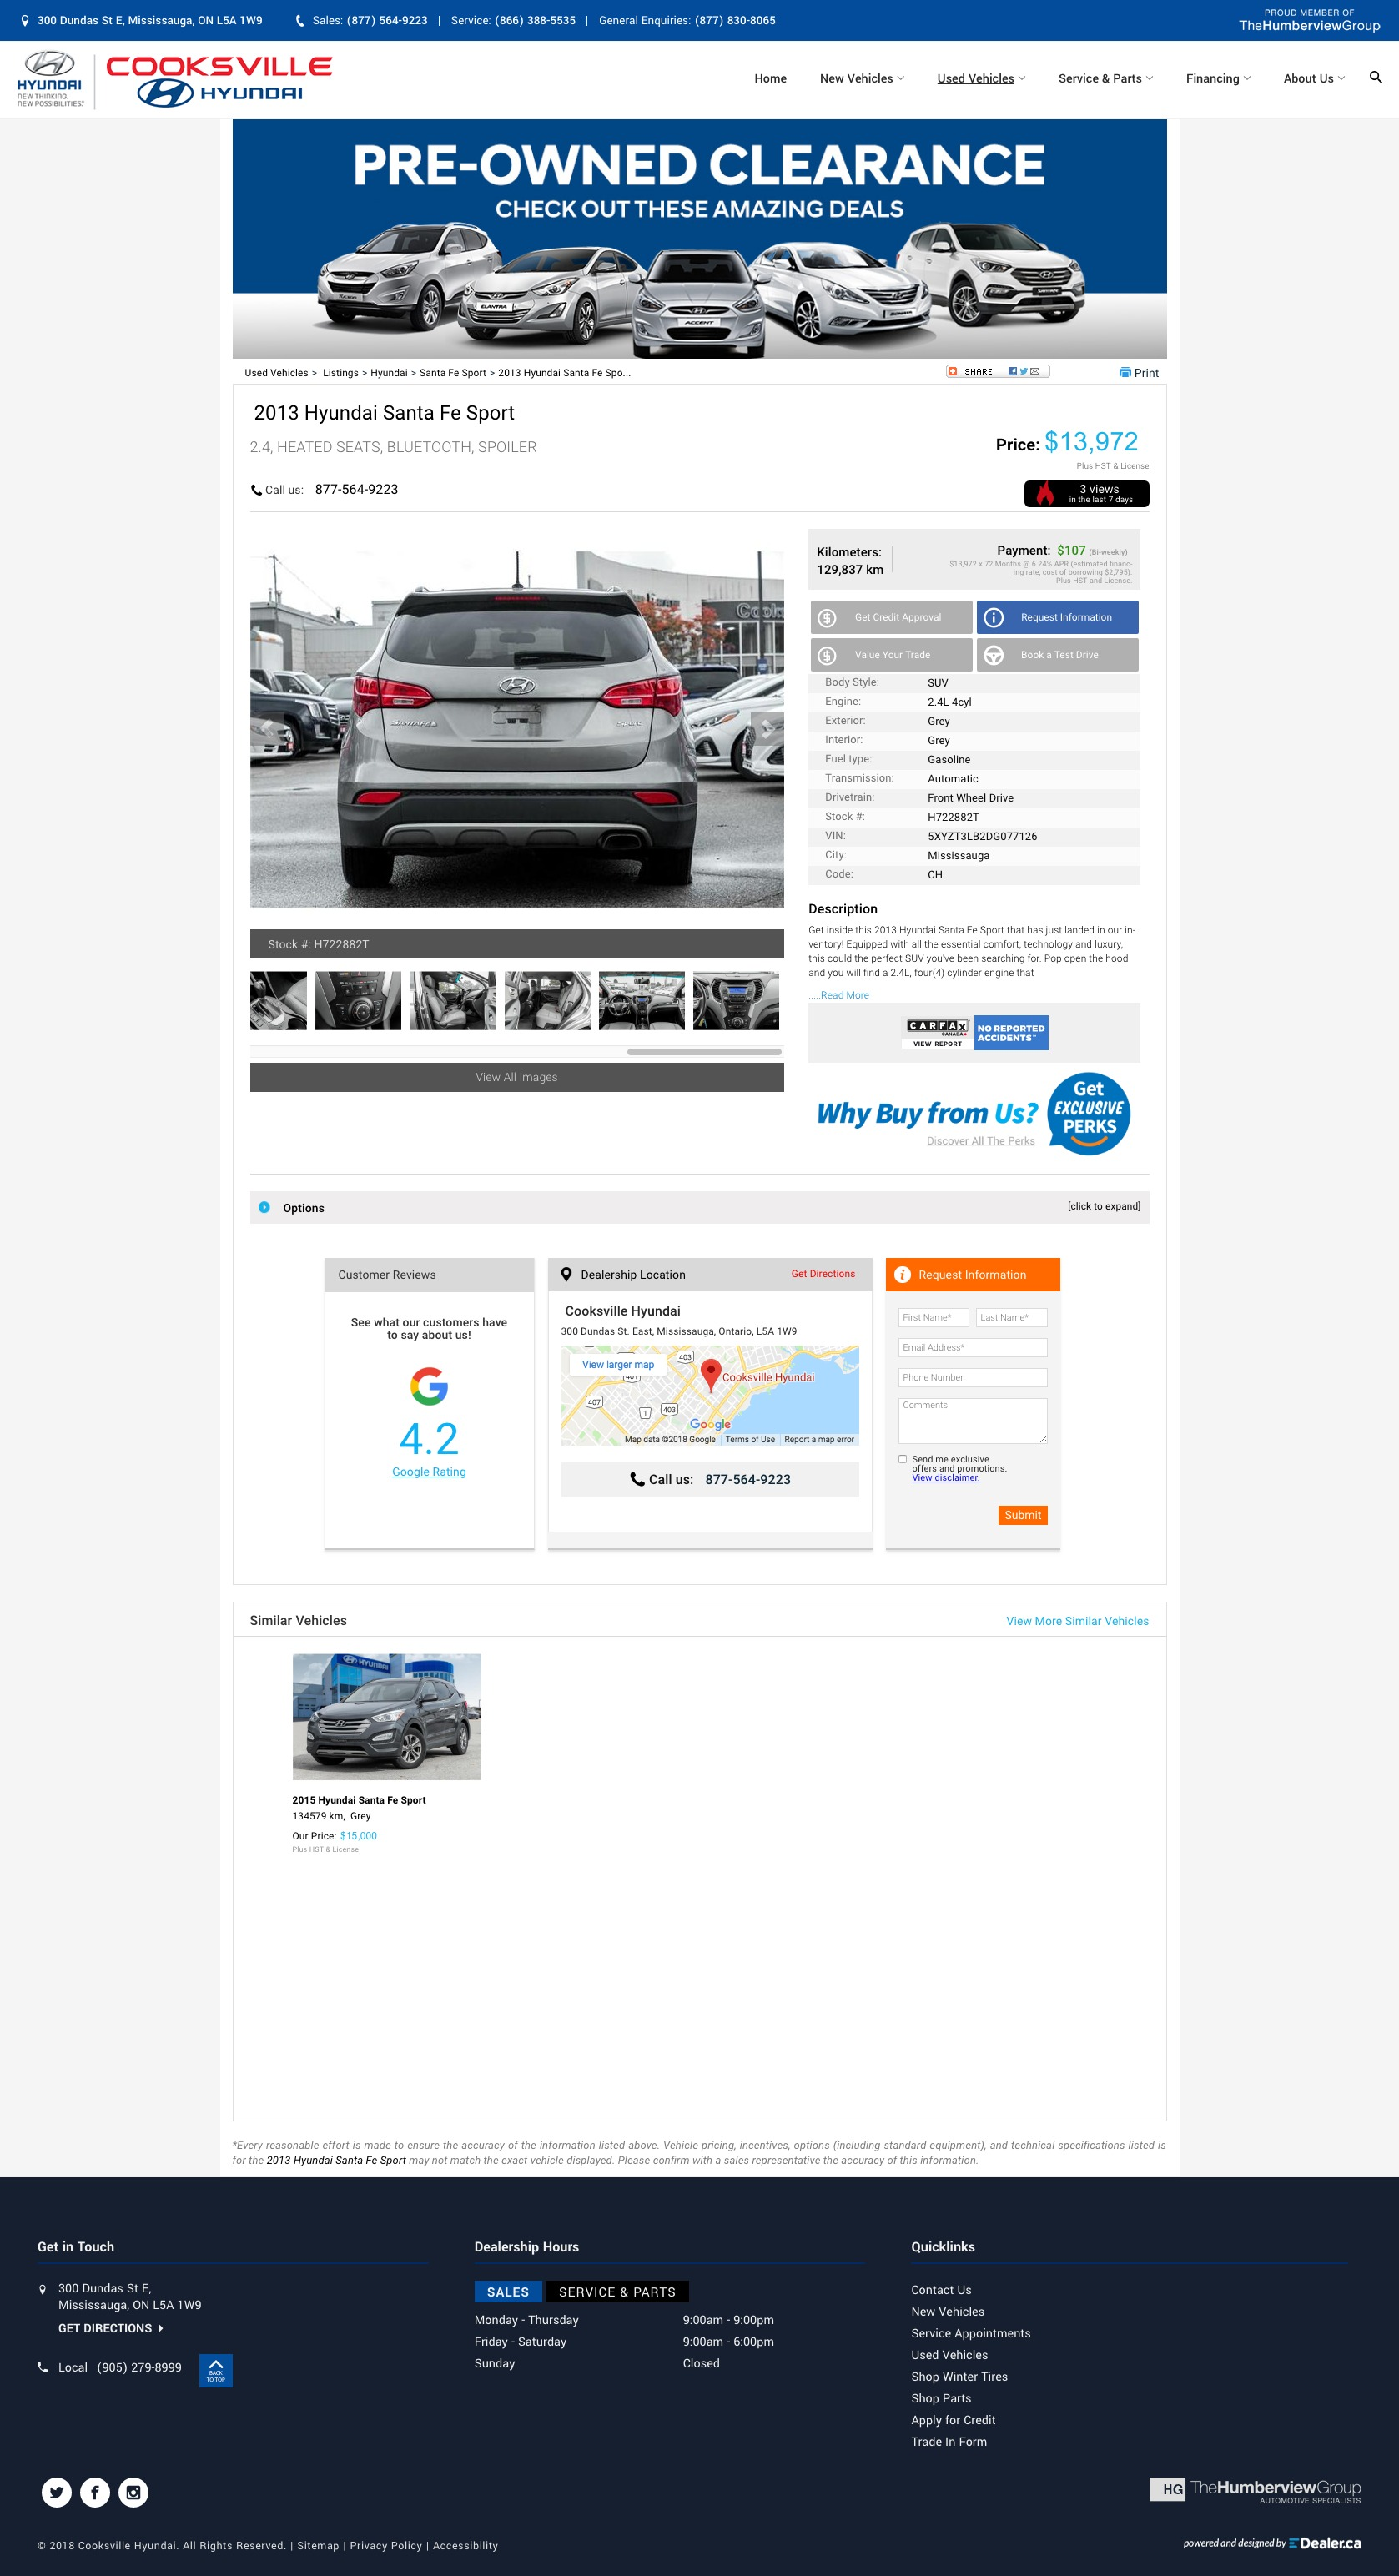car: (749, 713, 786, 747)
